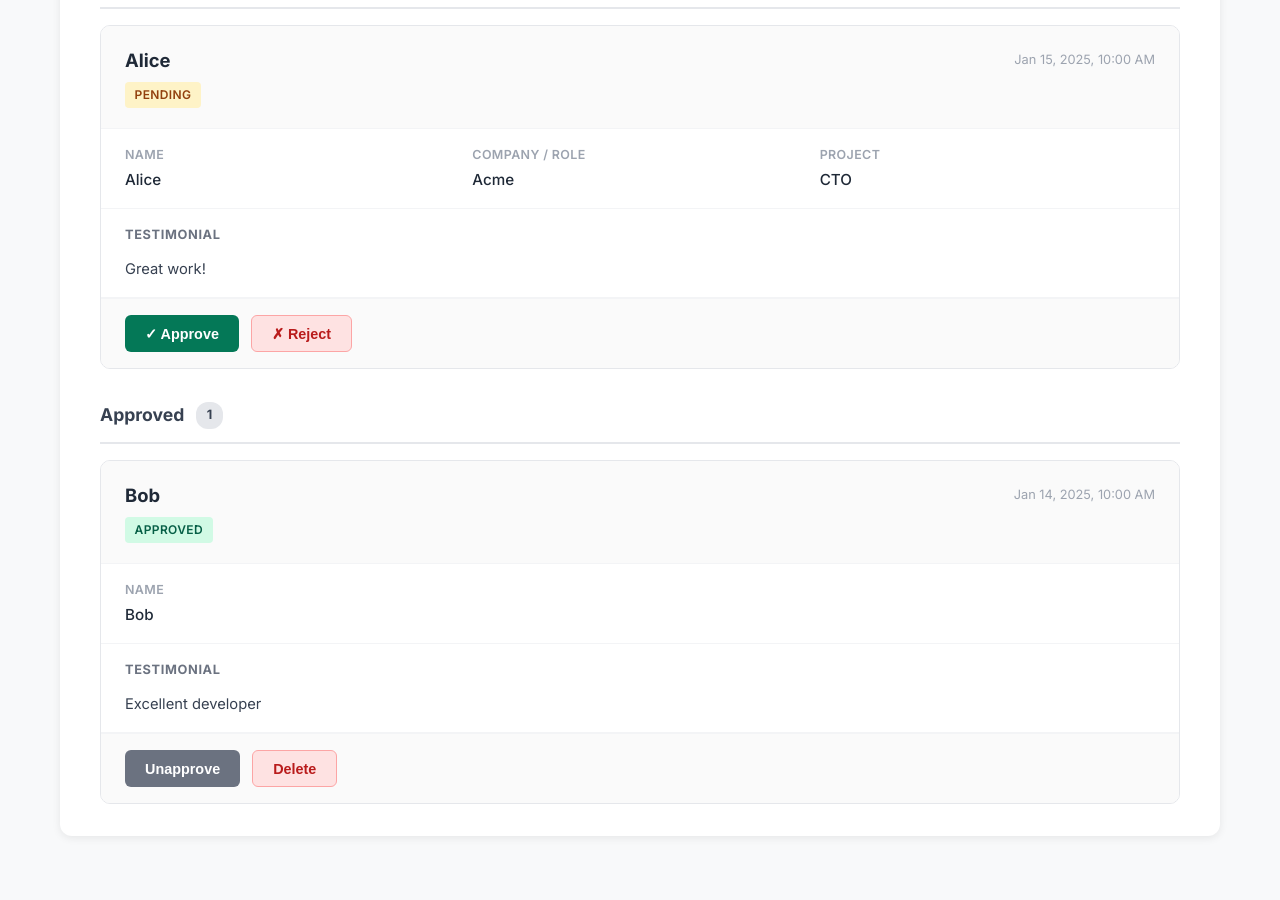
Scenario: AdminTestimonials › handles unapprove error
(page scrolled)
Click the button "Unapprove" at (183, 769), box top-left (125, 750), bottom-right (240, 787)
(page scrolled)
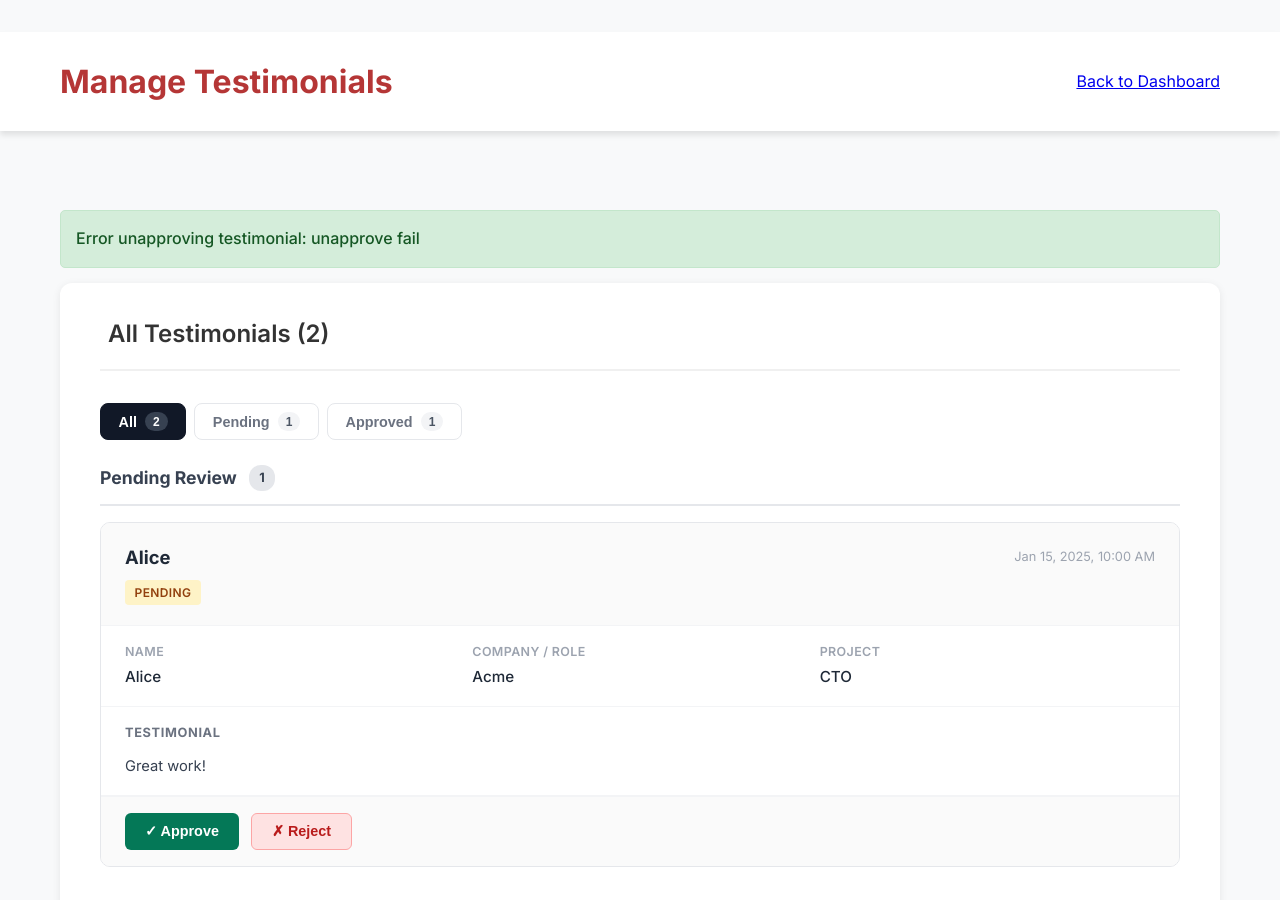
Result: the text "Error unapproving testimonial: unapprove fail" is shown at top-left (60, 210), bottom-right (1220, 268)
